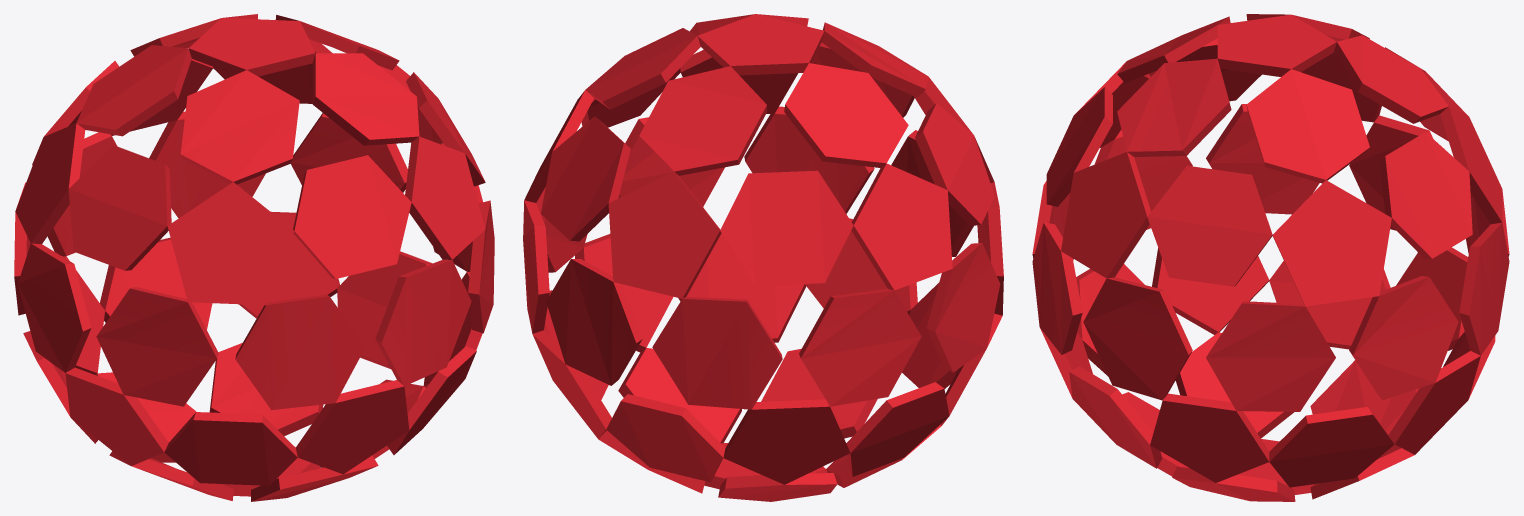
The model's file is shieldPLACEHOLDER.fbx.
3 views of the same model, side by side, from view 1: azimuth 30°, elevation 25°; view 2: azimuth 150°, elevation 25°; view 3: azimuth 270°, elevation 25° (orthographic).
Parts seen in each view (by area): view 1: Shield; view 2: Shield; view 3: Shield.
Part boxes in pixels (x1,y1,x2,y2): Shield: (14, 14, 494, 501); Shield: (523, 14, 1003, 501); Shield: (1032, 14, 1509, 501).
Size of the model in its own units: 2 by 2 by 2.
